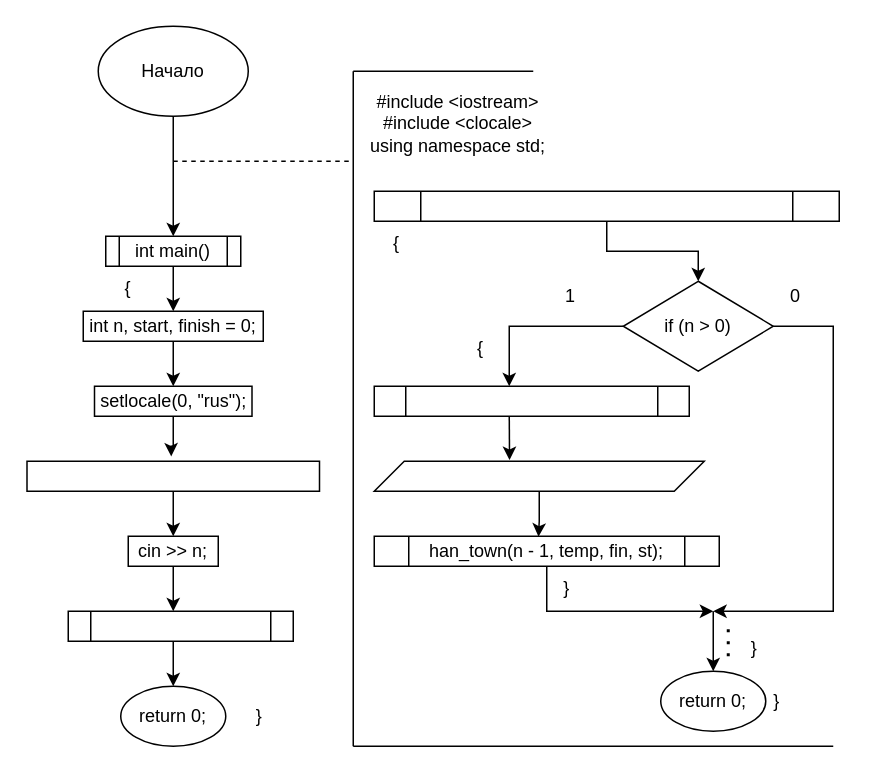
Some shapes in this 872 by 774 pixel diagram are drawn without their labels. The centre of each missing label's shape, as x and y in pixels:
cout << "Введите число дисков: ";: (x=173, y=475)
cout << st << " => " << fin << '\n';: (x=538, y=475)
han_town(n - 1, st, temp, fin);: (x=531, y=400)
han_town(n, 1, 3, 2);: (x=180, y=625)
void han_town(int n, int st, int fin, int temp): (x=606, y=205)
